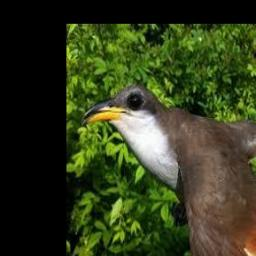Cuckoo: (82, 85, 256, 256)
